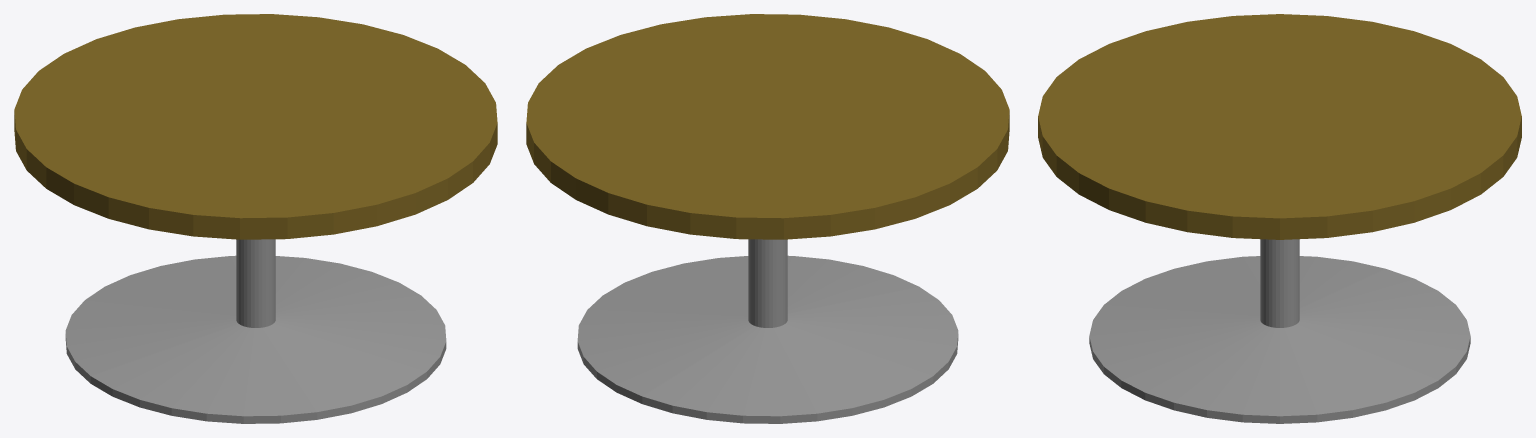
Rendered from Meja_Projector.glb.
The picture shows the model from 3 angles, left to right: view 1: azimuth 30°, elevation 25°; view 2: azimuth 150°, elevation 25°; view 3: azimuth 270°, elevation 25°; orthographic projection.
Visible parts, largest first — view 1: Top, Bottom, Leg; view 2: Top, Bottom, Leg; view 3: Top, Bottom, Leg.
Boxes of the visible parts, x1,y1,x2,y2 form: Top: (14, 14, 497, 239); Bottom: (65, 255, 446, 423); Leg: (236, 239, 275, 327); Top: (526, 14, 1009, 239); Bottom: (577, 255, 958, 423); Leg: (748, 239, 787, 327); Top: (1038, 14, 1521, 239); Bottom: (1089, 256, 1470, 423); Leg: (1260, 239, 1299, 327).
Size of the model in its own units: 1.77 by 0.9189 by 1.77.
